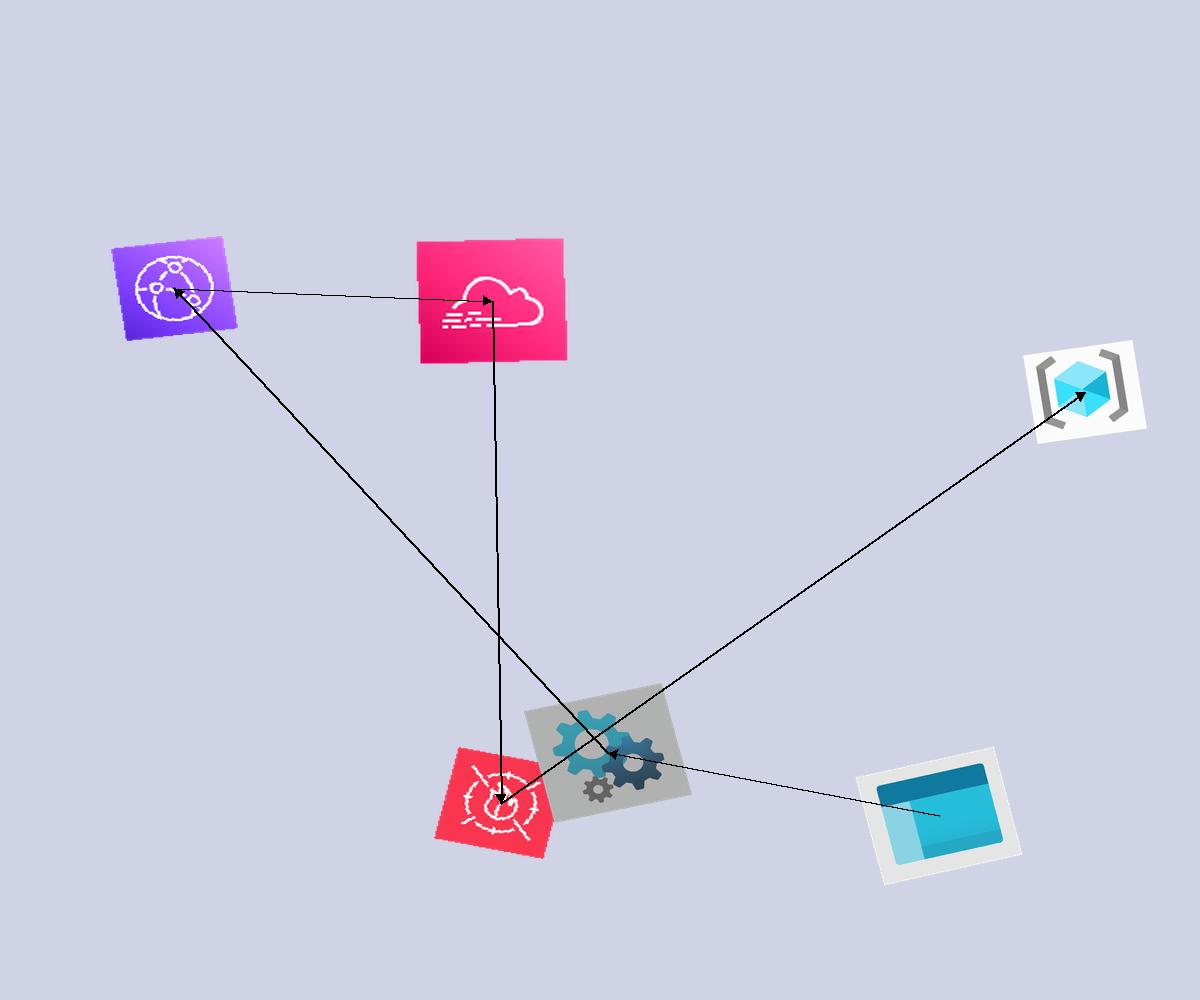AWS-CloudFront: (110, 235, 239, 342)
AWS-CloudTrail: (415, 237, 569, 365)
AWS-WAF: (434, 747, 568, 859)
Azure_api: (524, 683, 692, 823)
Azure_management-portal: (855, 746, 1023, 886)
Azure_resource_group: (1023, 340, 1147, 444)
